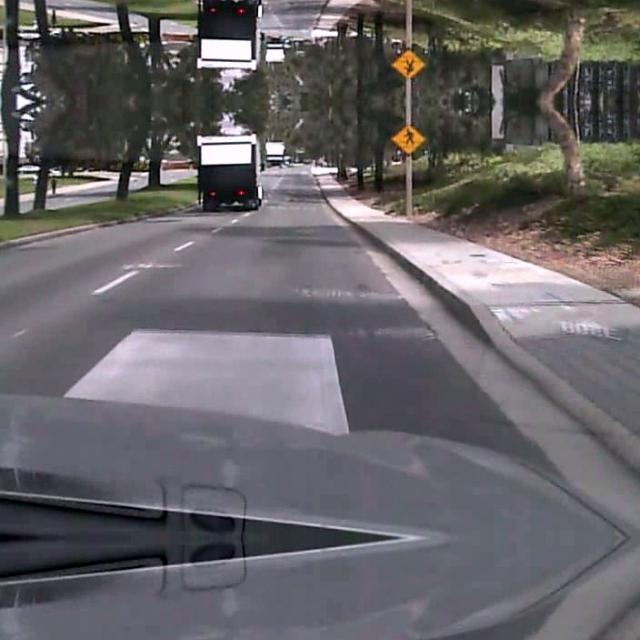pedestrianCrossing: (390, 122, 424, 152), (390, 50, 424, 80)
